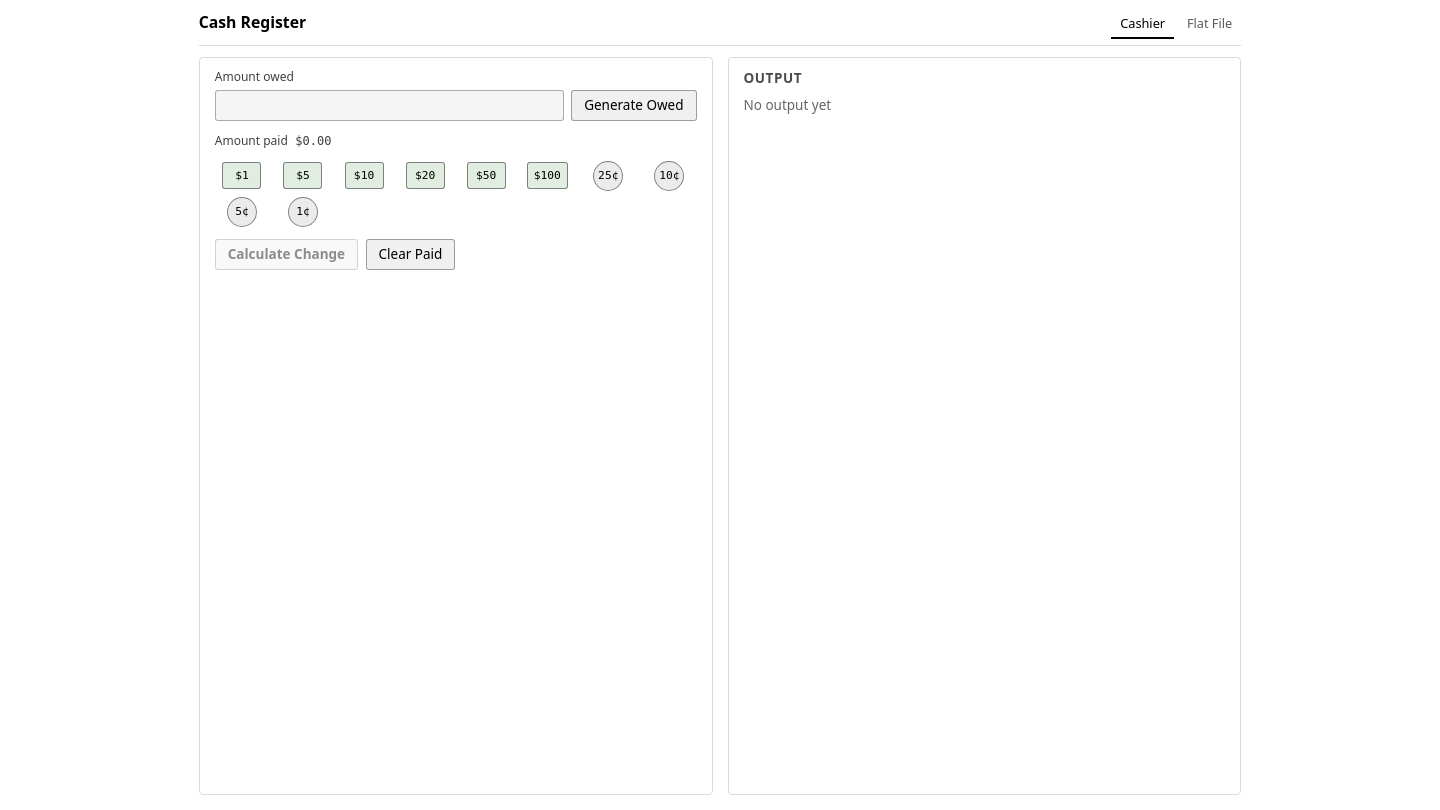
Test case: tapping payment denominations accumulates the paid total and notifies
This screenshot has width=1440, height=810.
Click the button named "Add $5": (303, 176) [276, 161, 330, 191]
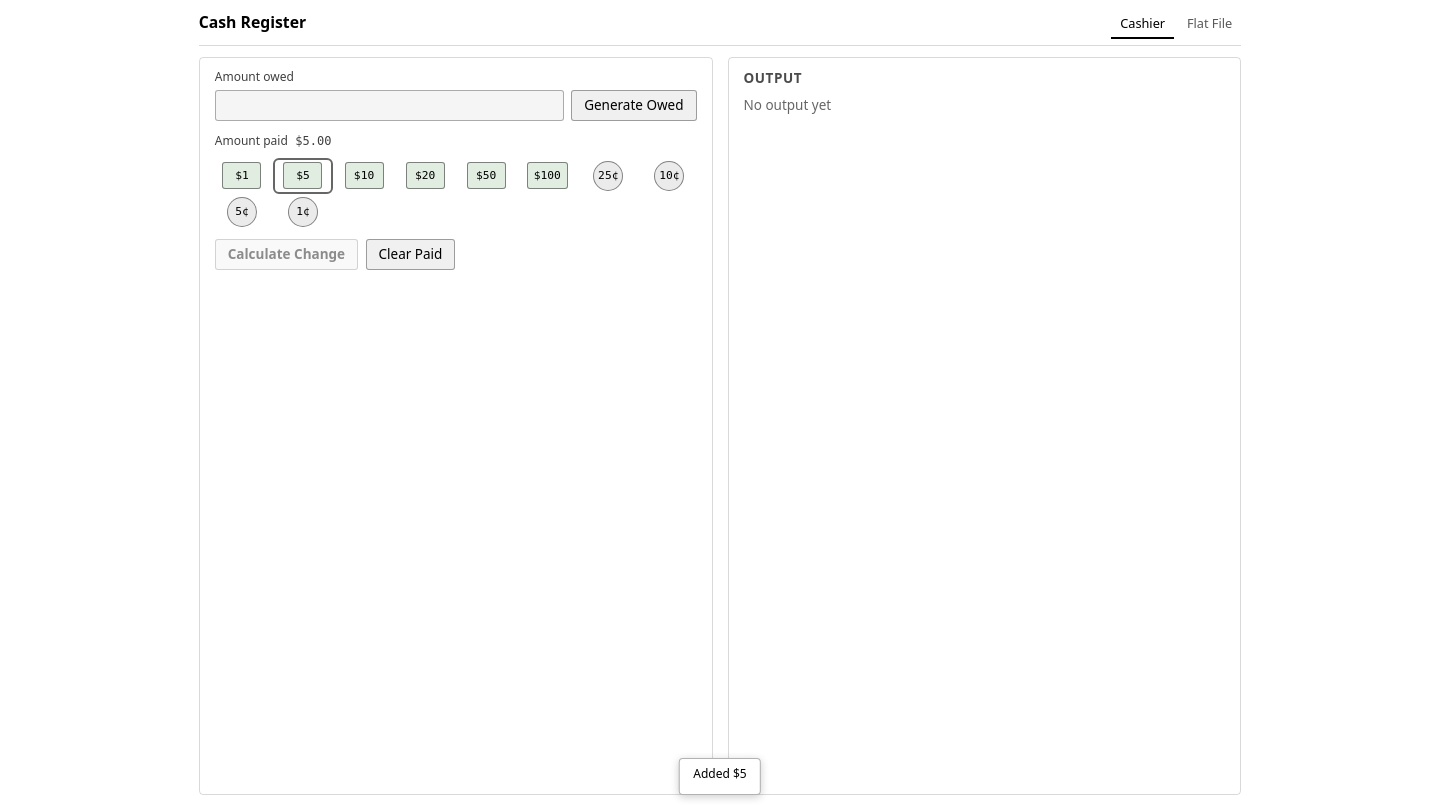
Click the button named "Add $5": (303, 176) [276, 161, 330, 191]
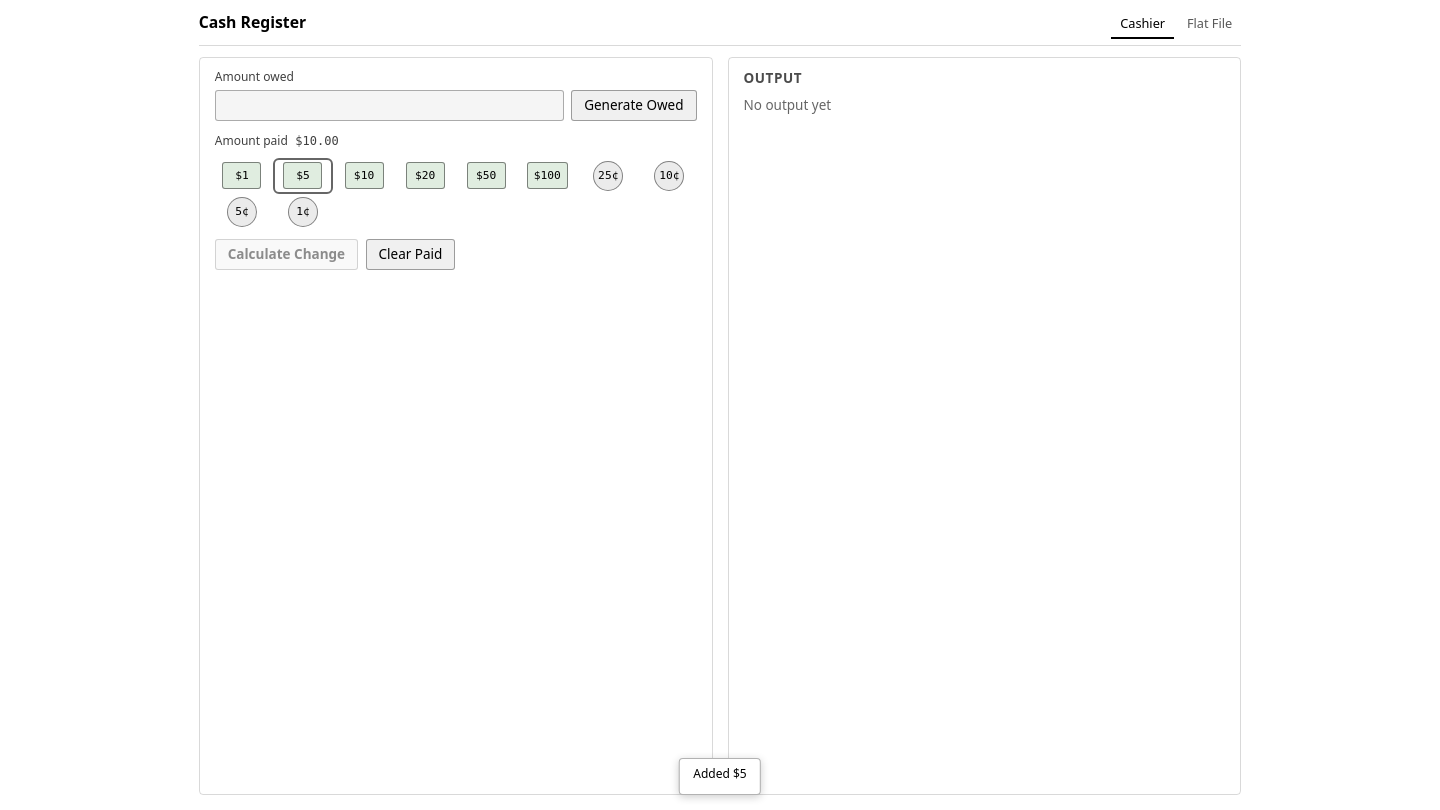
Click the button named "Add 25¢": (608, 176) [581, 161, 635, 191]
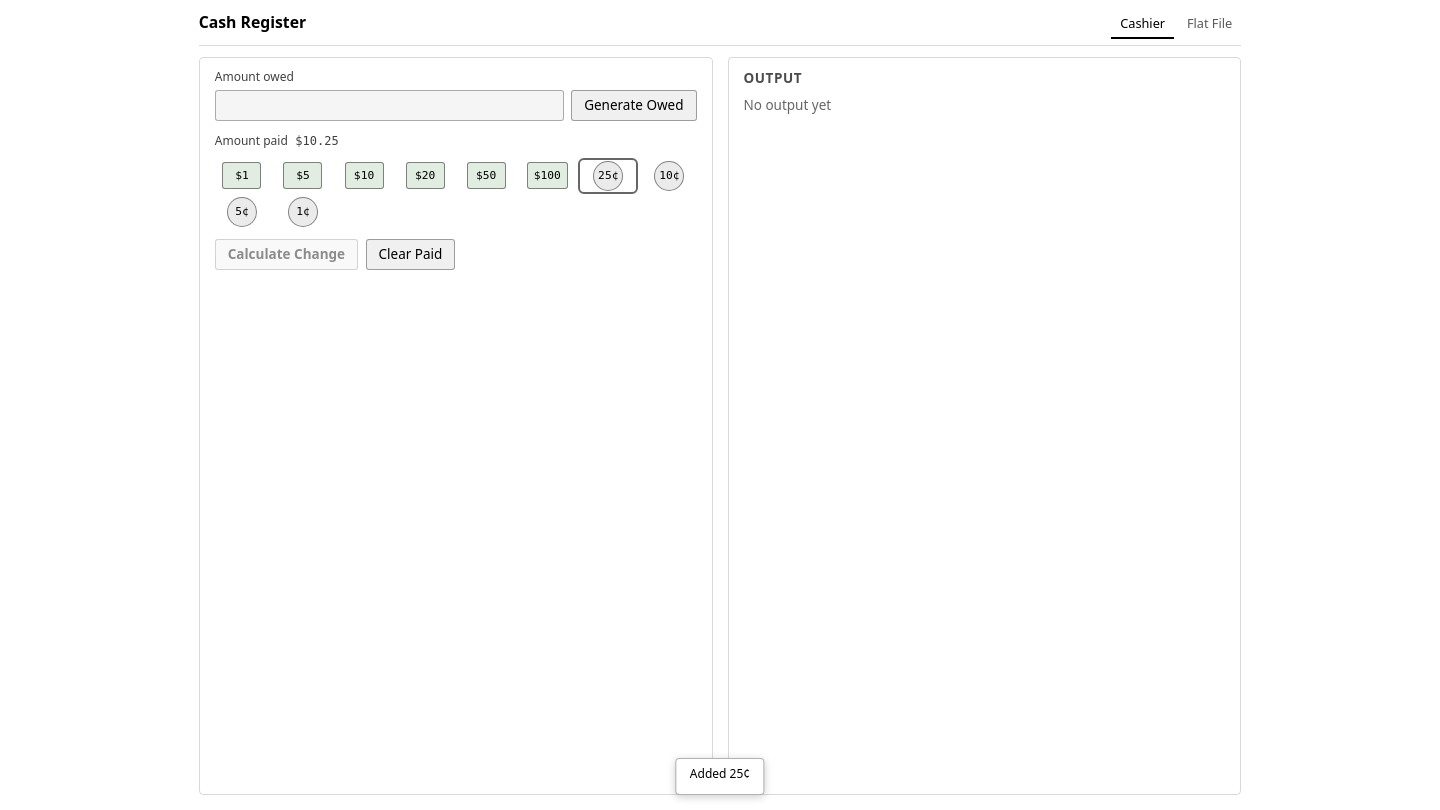
Result: the text named "amount paid" reads "$10.25" at [295, 132, 339, 149]
Result: the message reads "Added 25¢" at [690, 765, 750, 782]
